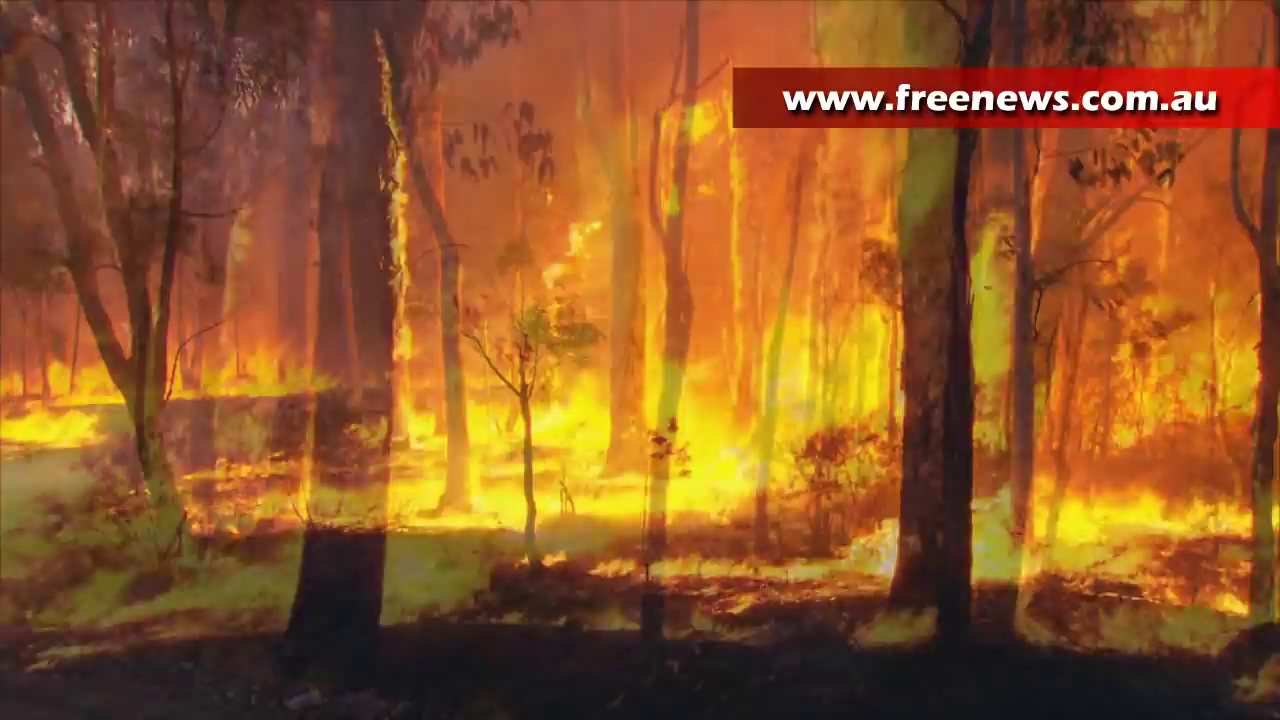fire: (388, 304, 900, 531), (972, 478, 1253, 618), (1104, 331, 1264, 442), (185, 458, 305, 527), (969, 229, 1013, 381), (2, 408, 101, 447), (222, 350, 302, 397), (844, 516, 897, 582), (48, 358, 122, 405), (392, 185, 407, 368), (589, 555, 641, 580), (690, 103, 721, 133), (568, 219, 581, 257)
